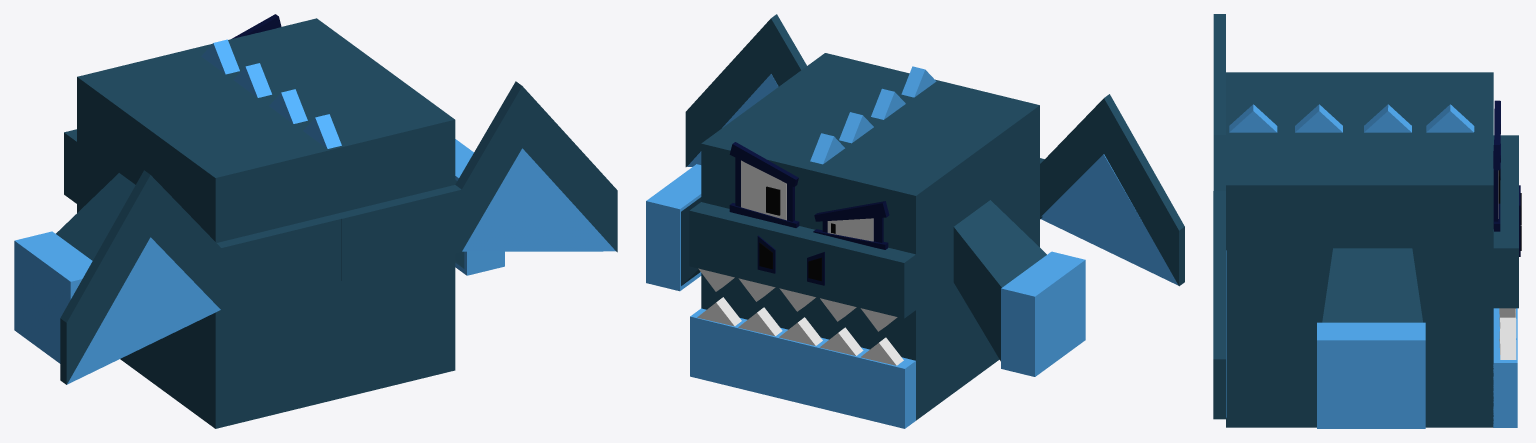
The model's file is Dragon's blue .fbx.
3 views of the same model, side by side, from view 1: azimuth 30°, elevation 25°; view 2: azimuth 150°, elevation 25°; view 3: azimuth 270°, elevation 25° (orthographic). The views are drawn at different scales.
Visible parts, largest first — view 1: Cube, Cube.029, Cube.028, Cube.013, Cube.012, Cube.030, Cube.031, Cube.032, Cube.033; view 2: Cube, Cube.001, Cube.013, Cube.029, Cube.012, Cube.014, Cube.016, Cube.019, Cube.015, Cube.028, Cube.007, Cube.009 (+9 smaller); view 3: Cube, Cube.012, Cube.001, Cube.030, Cube.033, Cube.031, Cube.032, Cube.007, Cube.019, Cube.018.
Boxes of the visible parts, left/top/right/bottom form: Cube: left=56, top=18, right=617, bottom=428; Cube.029: left=67, top=237, right=220, bottom=384; Cube.028: left=462, top=148, right=615, bottom=251; Cube.013: left=14, top=231, right=92, bottom=363; Cube.012: left=455, top=139, right=504, bottom=275; Cube.030: left=201, top=39, right=239, bottom=74; Cube.031: left=233, top=63, right=271, bottom=97; Cube.032: left=269, top=89, right=307, bottom=123; Cube.033: left=303, top=114, right=341, bottom=148; Cube: left=681, top=14, right=1184, bottom=420; Cube.001: left=690, top=308, right=915, bottom=428; Cube.013: left=1001, top=251, right=1085, bottom=376; Cube.029: left=1041, top=154, right=1178, bottom=285; Cube.012: left=646, top=164, right=701, bottom=291; Cube.014: left=741, top=160, right=786, bottom=220; Cube.016: left=729, top=142, right=798, bottom=186; Cube.019: left=814, top=201, right=889, bottom=221; Cube.015: left=827, top=218, right=873, bottom=241; Cube.028: left=687, top=74, right=778, bottom=166; Cube.007: left=697, top=297, right=741, bottom=326; Cube.009: left=738, top=307, right=782, bottom=336; Cube: left=1213, top=14, right=1518, bottom=427; Cube.012: left=1317, top=322, right=1425, bottom=428; Cube.001: left=1493, top=308, right=1517, bottom=427; Cube.030: left=1426, top=104, right=1474, bottom=132; Cube.033: left=1229, top=104, right=1277, bottom=132; Cube.031: left=1364, top=104, right=1411, bottom=132; Cube.032: left=1295, top=104, right=1342, bottom=132; Cube.007: left=1499, top=328, right=1516, bottom=359; Cube.019: left=1494, top=100, right=1500, bottom=168; Cube.018: left=1493, top=170, right=1498, bottom=228.
Bounding box in the file's own units: 459 × 220 × 230.
